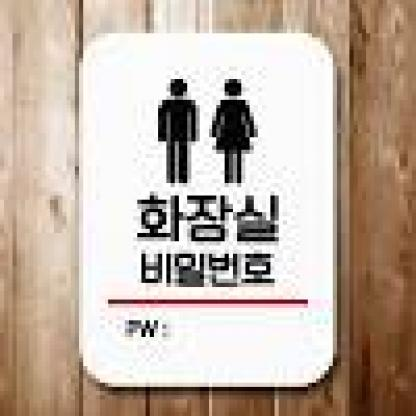toilet: (149, 72, 260, 184)
